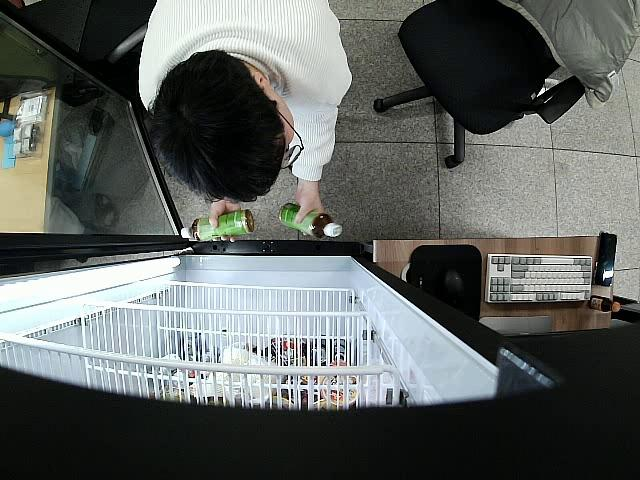00_hand: (295, 184, 326, 237), (210, 206, 243, 245)
19_17cha: (181, 209, 255, 244), (278, 202, 343, 239)
